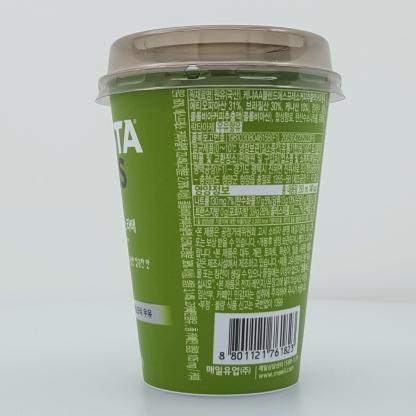-------------------: (96, 25, 346, 396)
